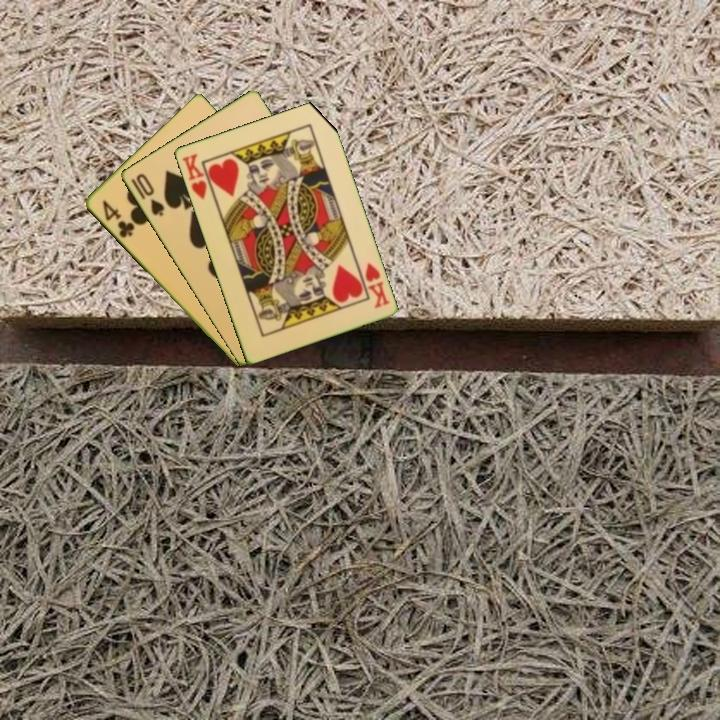10s: (132, 169, 167, 219)
4c: (98, 197, 137, 241)
Kh: (178, 150, 217, 202), (361, 259, 393, 311)
